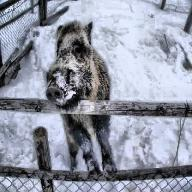boar: (26, 5, 121, 167)
